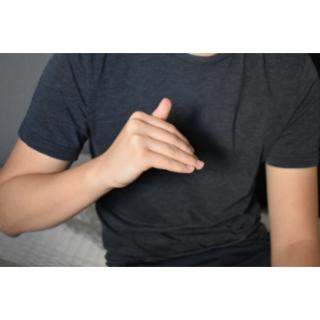KHAA: (89, 95, 211, 194)
